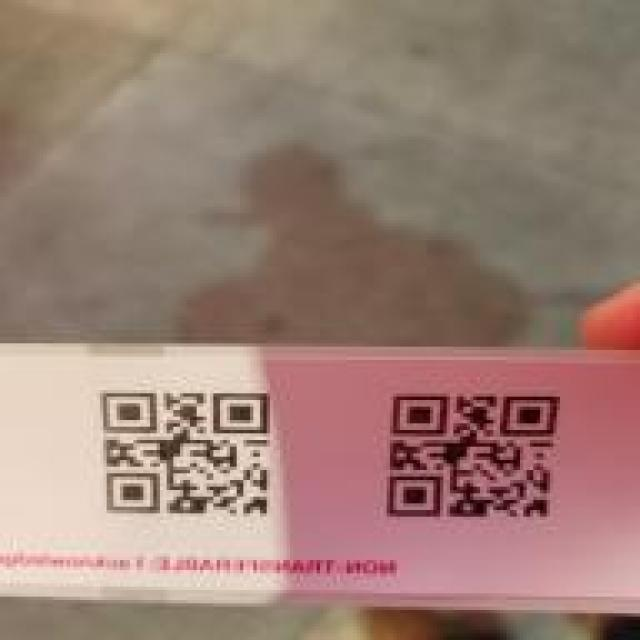QR_CODE: (85, 376, 287, 532), (375, 380, 577, 532)
